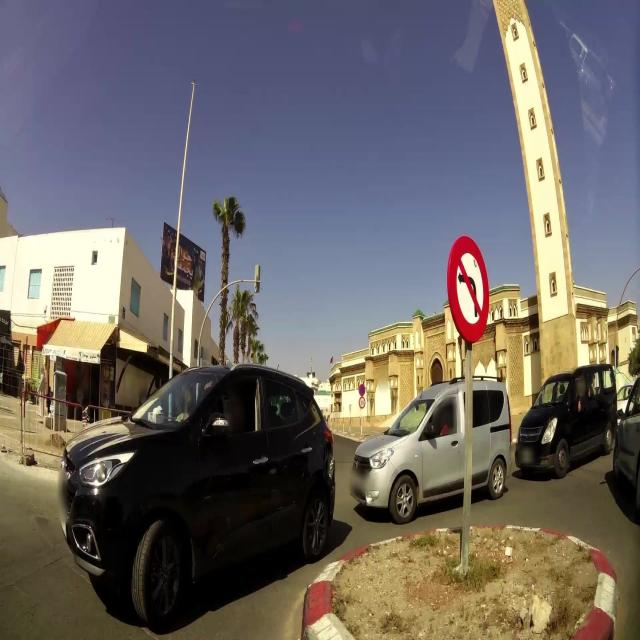forb_stopping: (359, 384, 365, 396)
